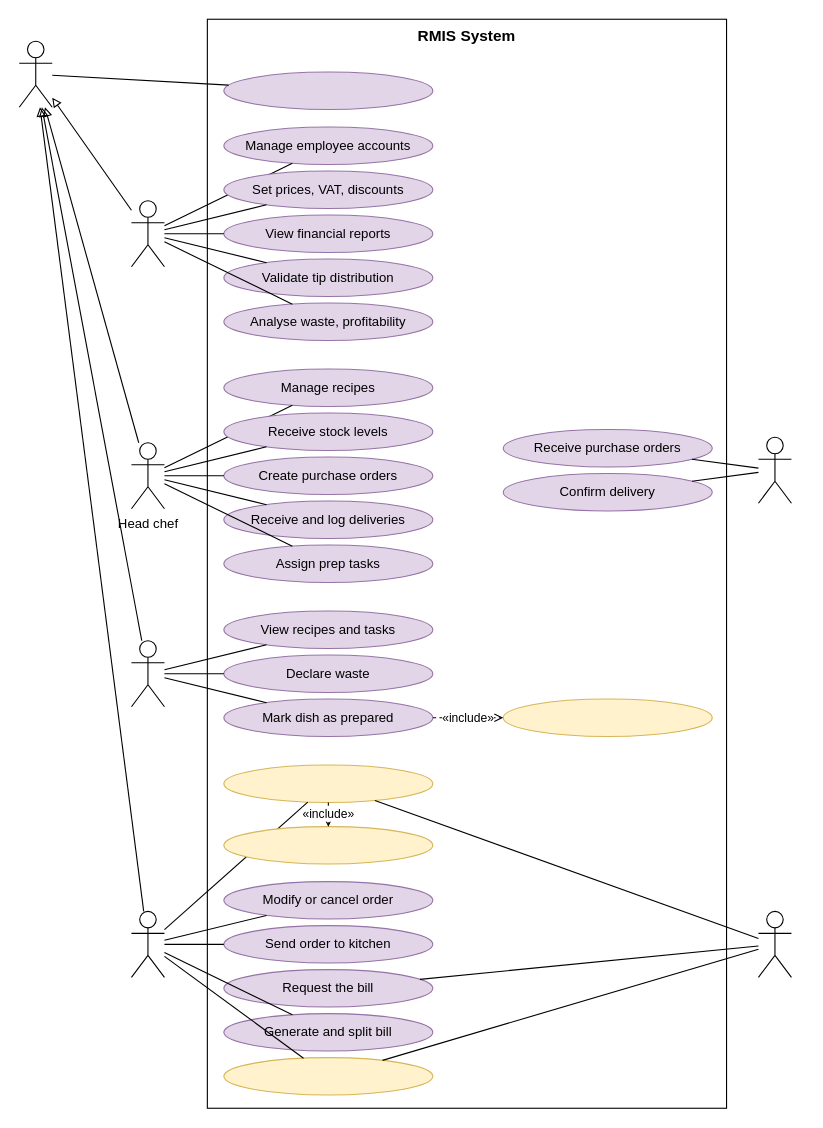
The diagram is 823 pixels wide and 1128 high, and some of its shapes have lost their labels. The shapes that lost their labels are listed below. From the top down, each one's box as (x1, y1, x2, y2) in pixels, then its label:
(18, 40, 52, 107): Staff
(223, 71, 433, 109): Authenticate user
(130, 200, 164, 267): Manager
(757, 436, 791, 503): Supplier
(130, 640, 164, 707): Kitchen assistant
(502, 698, 712, 736): Deduct stock
(223, 764, 433, 802): Take order
(223, 826, 433, 864): Open table
(130, 910, 164, 977): Server
(757, 910, 791, 977): Customer
(223, 1057, 433, 1095): Pay and tip
